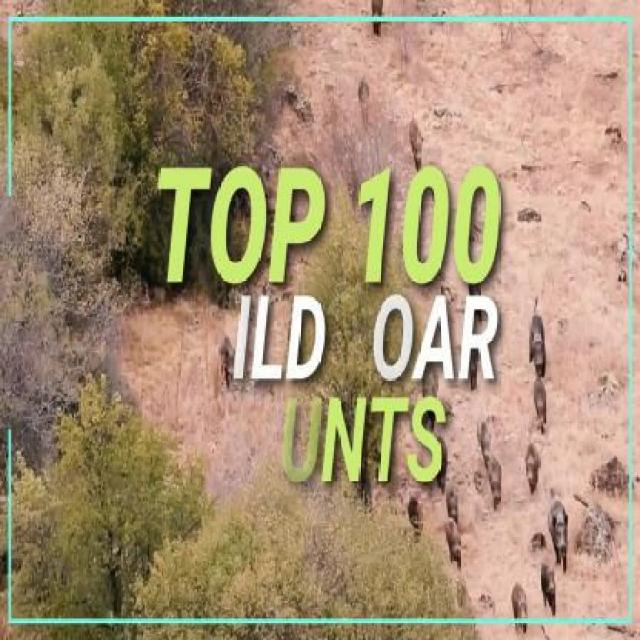WildBoar: (512, 427, 550, 491), (522, 295, 552, 376), (545, 492, 573, 574), (438, 507, 468, 582), (479, 439, 504, 526), (528, 545, 558, 613), (401, 94, 428, 168), (346, 68, 376, 130), (504, 584, 538, 638), (526, 371, 554, 427), (215, 323, 236, 392), (436, 480, 464, 526), (472, 418, 497, 462)
